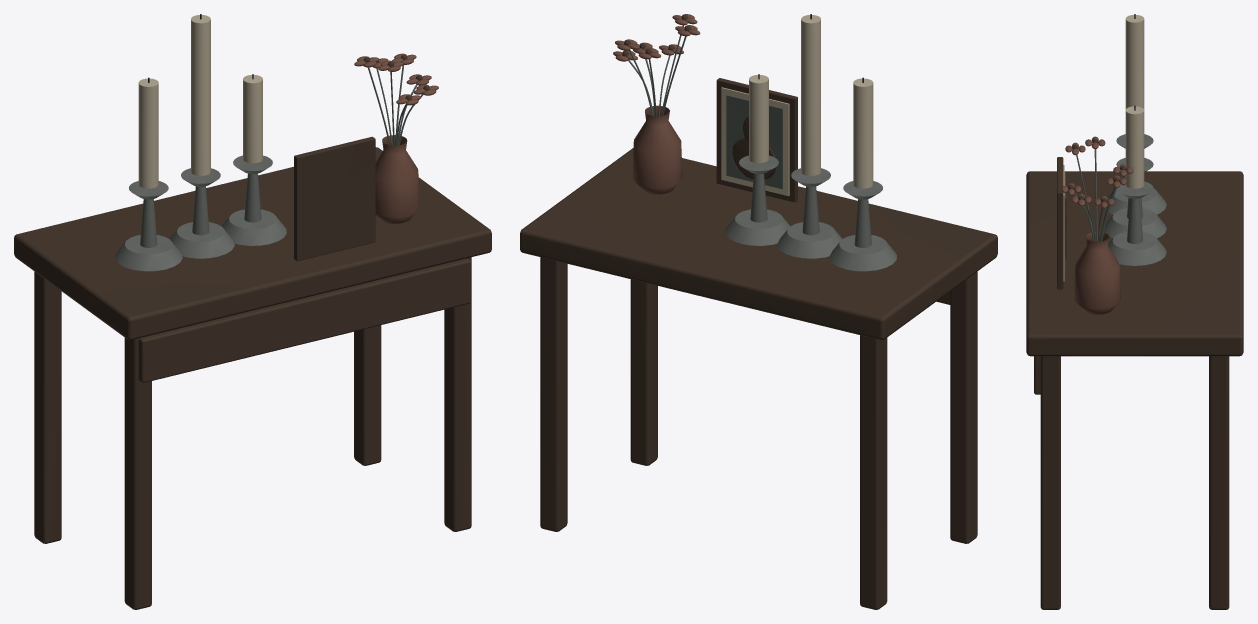
The model's file is prop-candle-altar-v01.glb.
3 renders of one model, left to right at view 1: azimuth 30°, elevation 25°; view 2: azimuth 150°, elevation 25°; view 3: azimuth 270°, elevation 25°, orthographic. The views are drawn at different scales.
Parts seen in each view (by area): view 1: candle-altar; view 2: candle-altar; view 3: candle-altar.
Boxes of the visible parts, left/top/right/bottom form: candle-altar: left=14, top=14, right=491, bottom=609; candle-altar: left=520, top=14, right=997, bottom=609; candle-altar: left=1026, top=14, right=1243, bottom=609.
Size of the model in its own units: 1.05 by 1.46 by 0.58.
